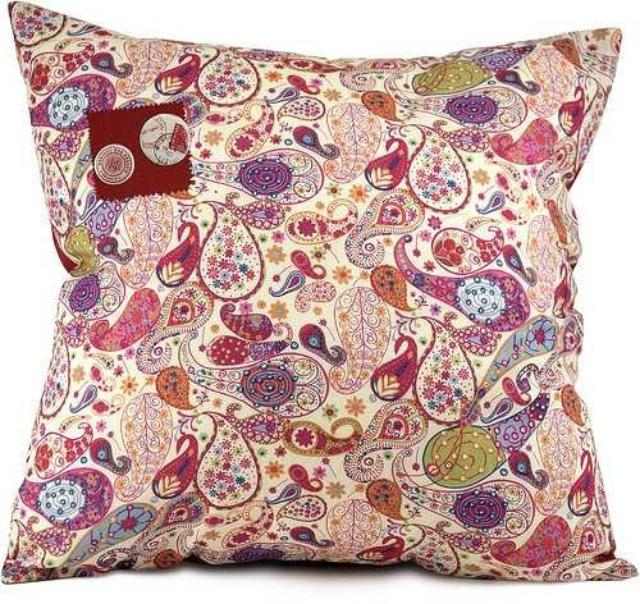pillow: (0, 0, 638, 584)
